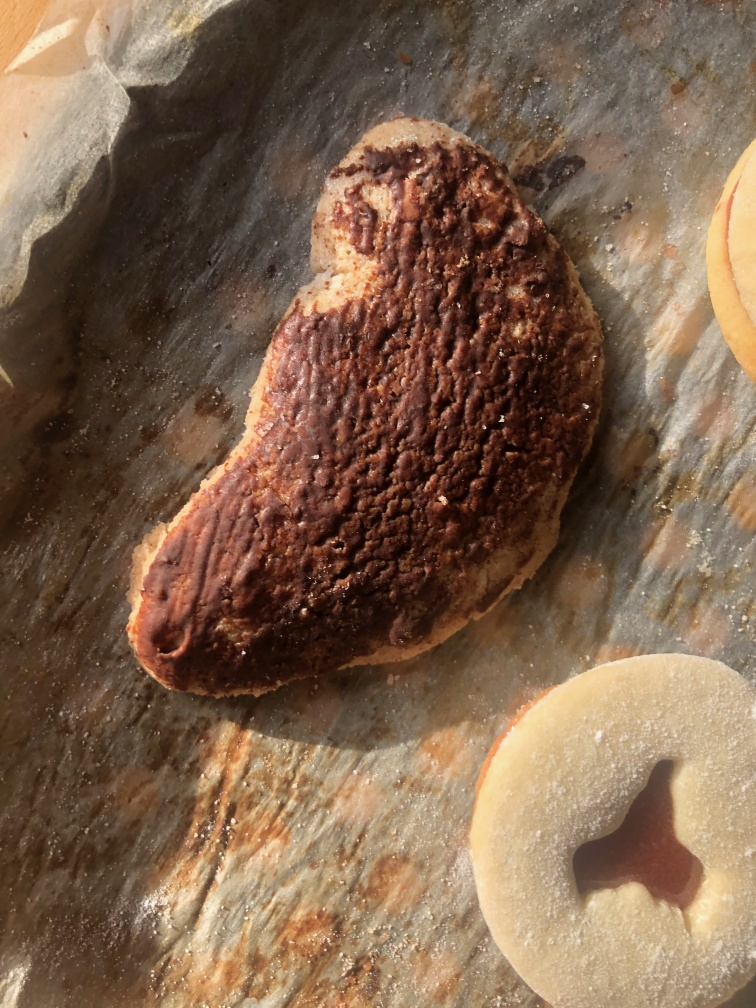christmas shortbread with jam: (463, 642, 755, 1005)
weird #1: (119, 112, 615, 700)
